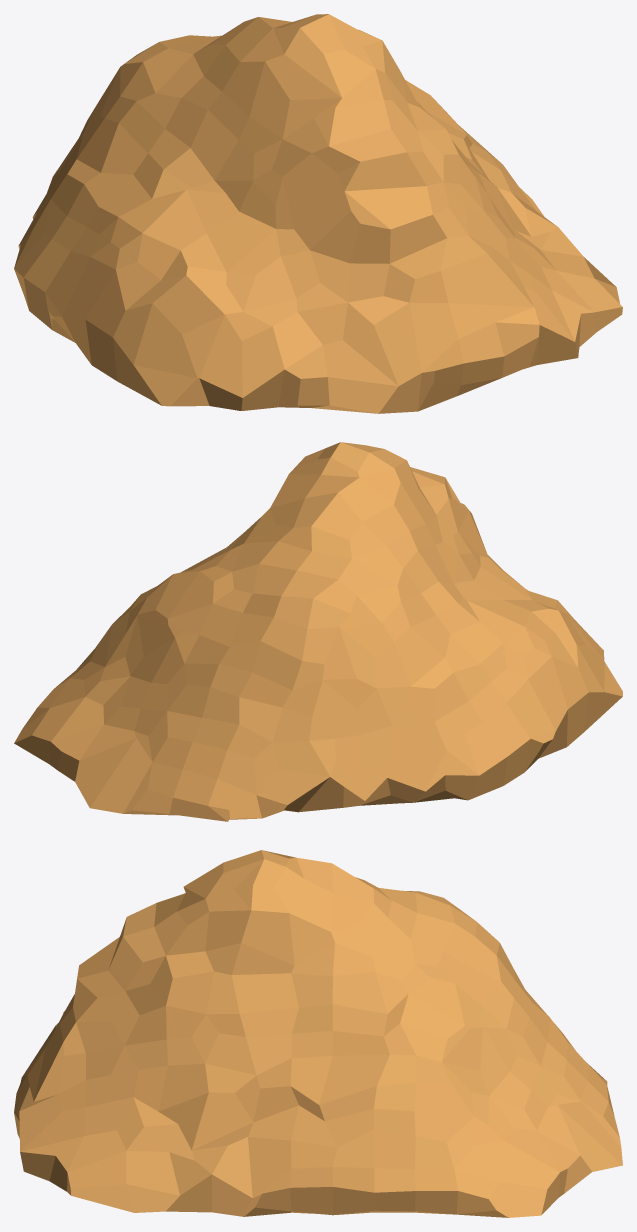
Rendered from Mounting_1.fbx.
3 views of the same model, one above another, from view 1: azimuth 30°, elevation 25°; view 2: azimuth 150°, elevation 25°; view 3: azimuth 270°, elevation 25° (orthographic). The views are drawn at different scales.
Parts seen in each view (by area): view 1: Mounting_1; view 2: Mounting_1; view 3: Mounting_1.
Boxes of the visible parts, bbox=[...] form: Mounting_1: bbox=[14, 14, 622, 413]; Mounting_1: bbox=[14, 442, 622, 821]; Mounting_1: bbox=[14, 850, 622, 1217].
Size of the model in its own units: 1179 by 700 by 1397.
